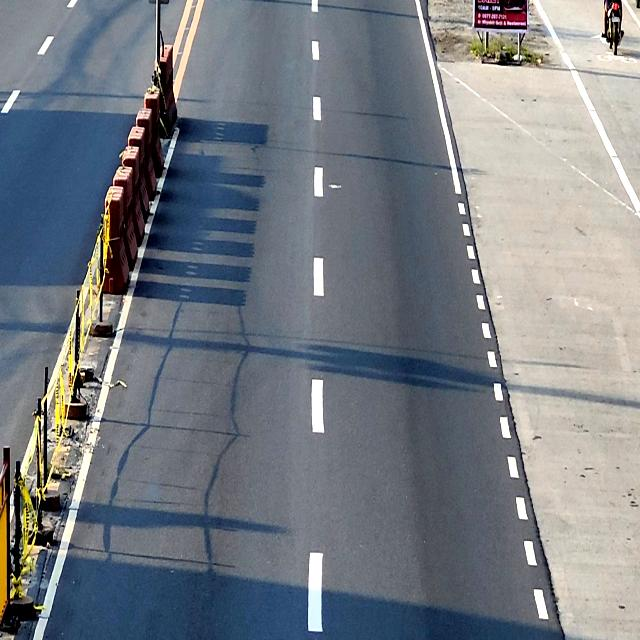License-Plate: (611, 16, 620, 22)
Motorcycle: (605, 0, 623, 55)
